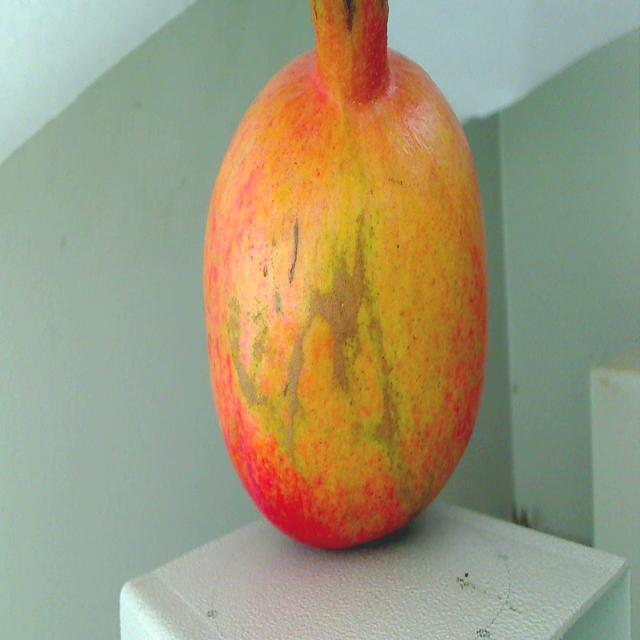pomegranate: (194, 0, 503, 565)
